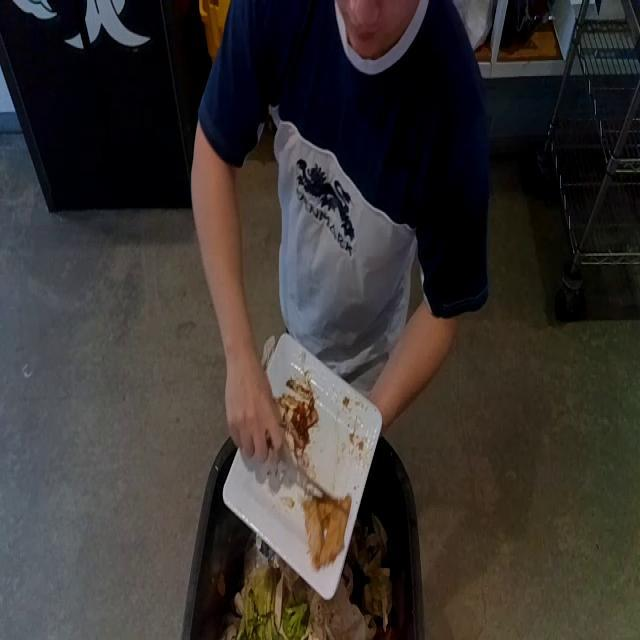Anorganik: (231, 325, 397, 574)
Organik: (302, 477, 368, 568), (277, 374, 321, 470)
